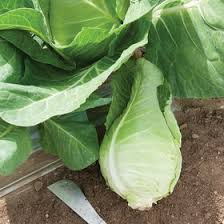cabbage: (97, 49, 183, 212)
